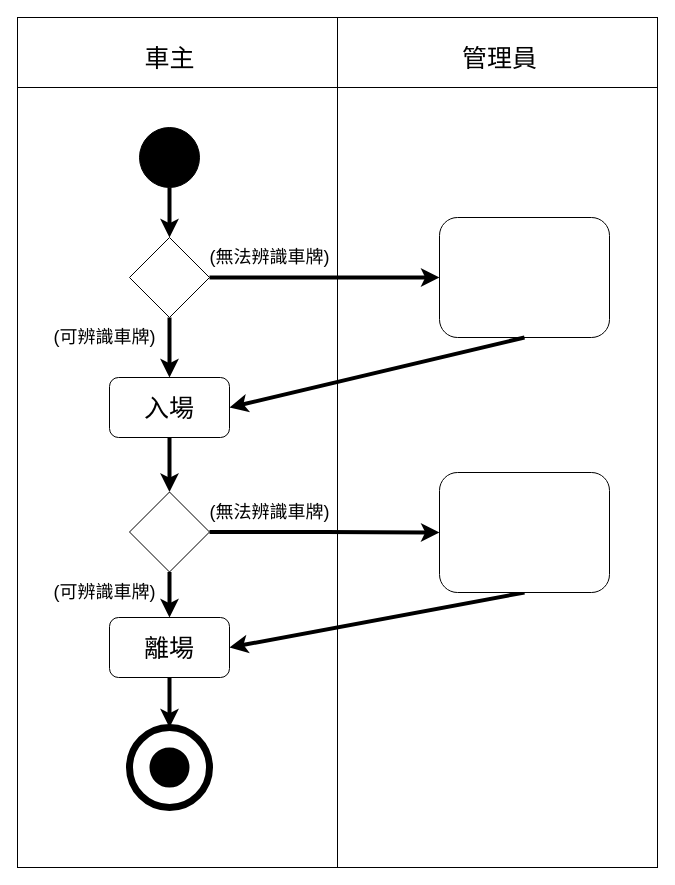
Image size: 675x885. Some labels were removed from this diagram. The shapes that lost their labels are listed below. From the top down, each one's centre as x and y in pixels, then its label:
At [524,277]: "錄入車輛 進場信息".
At [524,532]: "錄入車輛 離場信息".
